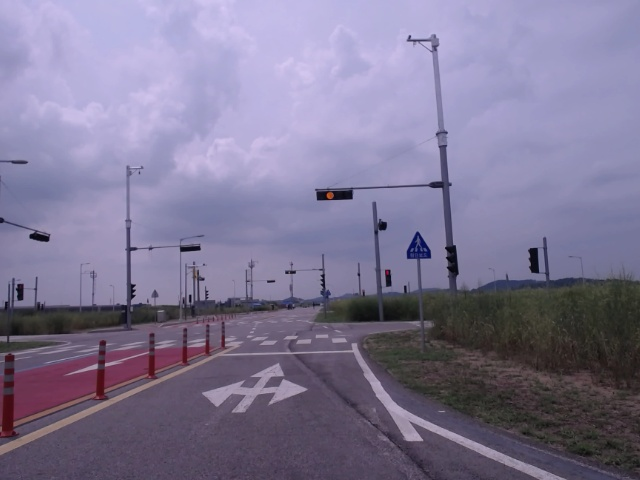orange_4: (316, 188, 353, 202), (285, 269, 297, 275)
